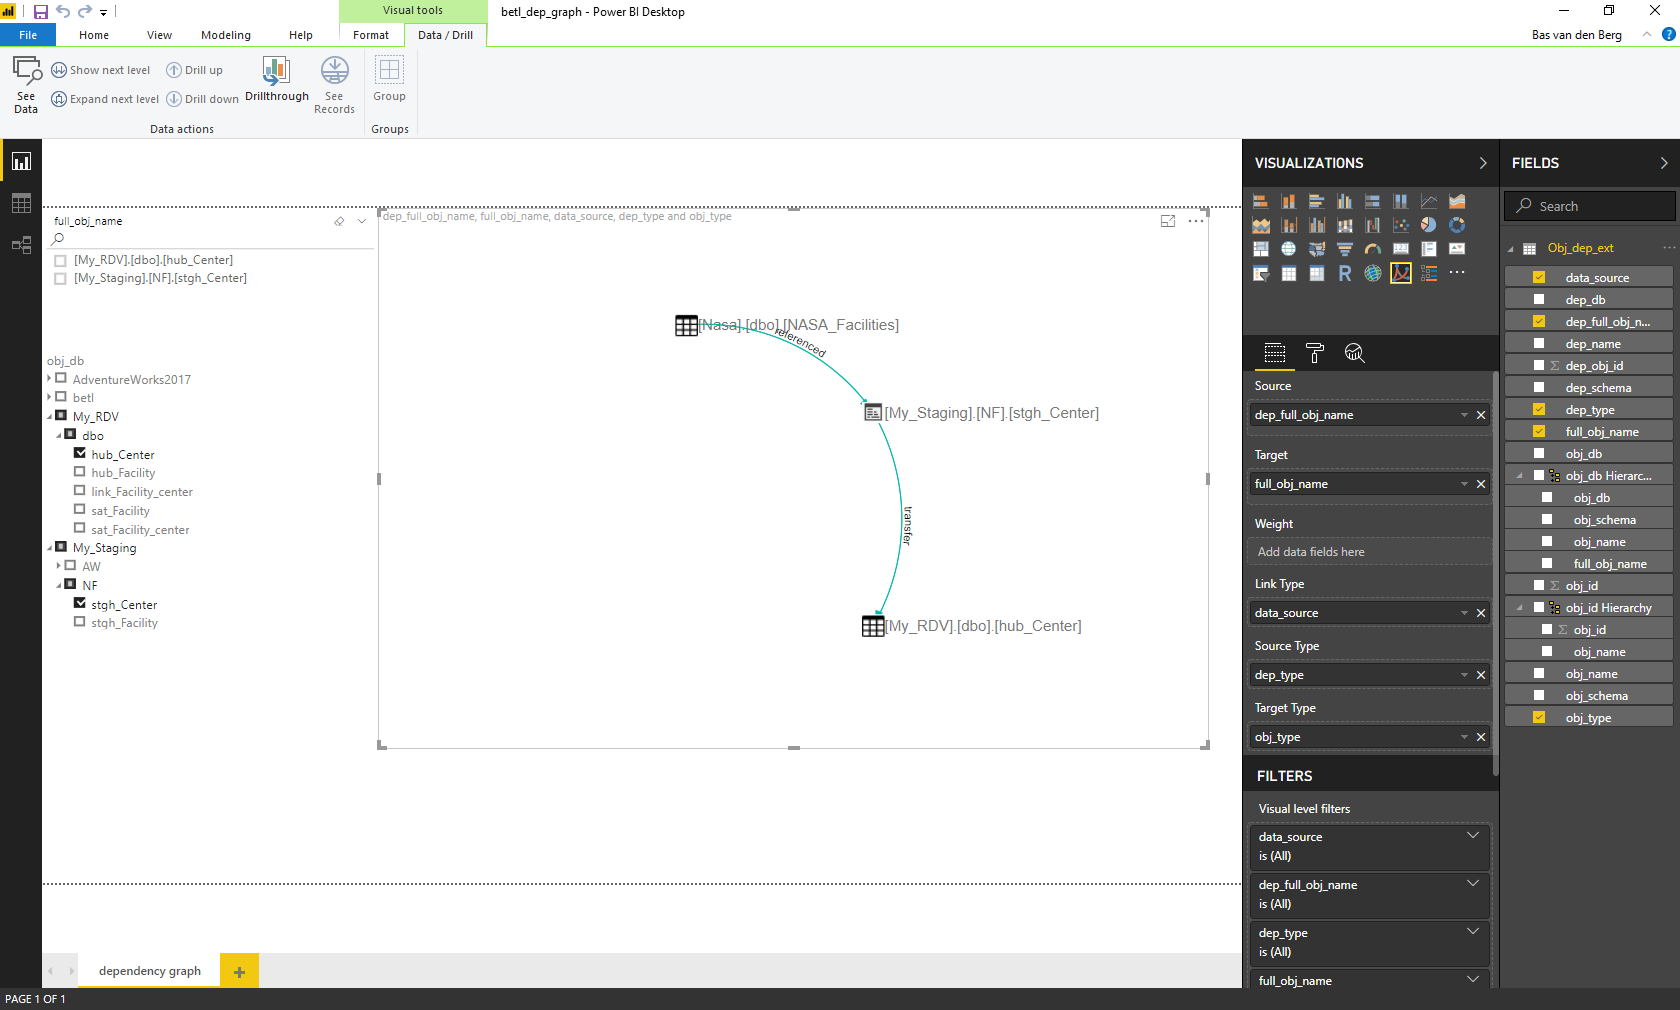

This screenshot's page, from the dashboard's own definition file:
{"tool":"powerbi","page":{"name":"Page 1","canvas":[1280,720],"ordinal":0},"visuals":[{"type":"ForceGraph1449359463895","fields":{"SourceType":["Obj_dep_ext.obj_type"],"TargetType":["Obj_dep_ext.dep_type"],"LinkType":["Obj_dep_ext.data_source"],"Source":["Obj_dep_ext.dep_full_obj_name"],"Target":["Obj_dep_ext.full_obj_name"]},"box":[358.7,0,886.4,576.9],"z":2},{"type":"HierarchySlicer1458836712039","fields":{"Fields":["Obj_dep_ext.obj_db Hierarchy.obj_db","Obj_dep_ext.obj_db Hierarchy.obj_schema","Obj_dep_ext.obj_db Hierarchy.obj_name"]},"box":[0,148,358.7,307.1],"z":2},{"type":"slicer","fields":{"Values":["Obj_dep_ext.full_obj_name"]},"box":[0,0,358.7,148],"z":3}]}

Visuals, with their boxes on the page's 1280x720 design canvas (x1, y1, x2, y2). These are canvas units, not pixel positions in the 1680x1010 screenshot, which may show the page scaled, cropped or inside an application window:
ForceGraph1449359463895 - Obj_dep_ext.obj_type x Obj_dep_ext.dep_type: Rect(359, 0, 1245, 577)
HierarchySlicer1458836712039 - Obj_dep_ext.obj_db Hierarchy.obj_db x Obj_dep_ext.obj_db Hierarchy.obj_schema: Rect(0, 148, 359, 455)
slicer - Obj_dep_ext.full_obj_name: Rect(0, 0, 359, 148)
